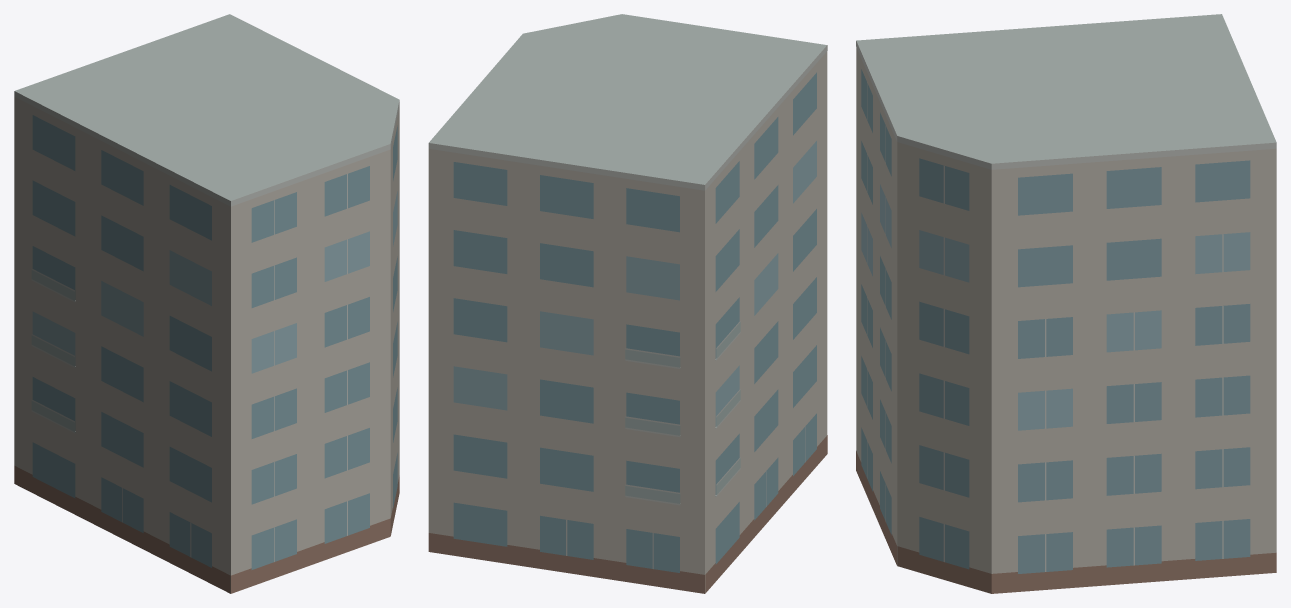
File: survey-upis-32892278.glb
3 views of the same model, side by side, from view 1: azimuth 30°, elevation 25°; view 2: azimuth 150°, elevation 25°; view 3: azimuth 270°, elevation 25° (orthographic). The views are drawn at different scales.
Parts seen in each view (by area): view 1: survey-upis-32892278.tmp; view 2: survey-upis-32892278.tmp; view 3: survey-upis-32892278.tmp.
Boxes of the visible parts, x1,y1,x2,y2 form: survey-upis-32892278.tmp: (14,14,399,593); survey-upis-32892278.tmp: (428,14,827,593); survey-upis-32892278.tmp: (856,14,1276,593).
Bounding box in the file's own units: 12.85 × 17.2 × 15.25.
